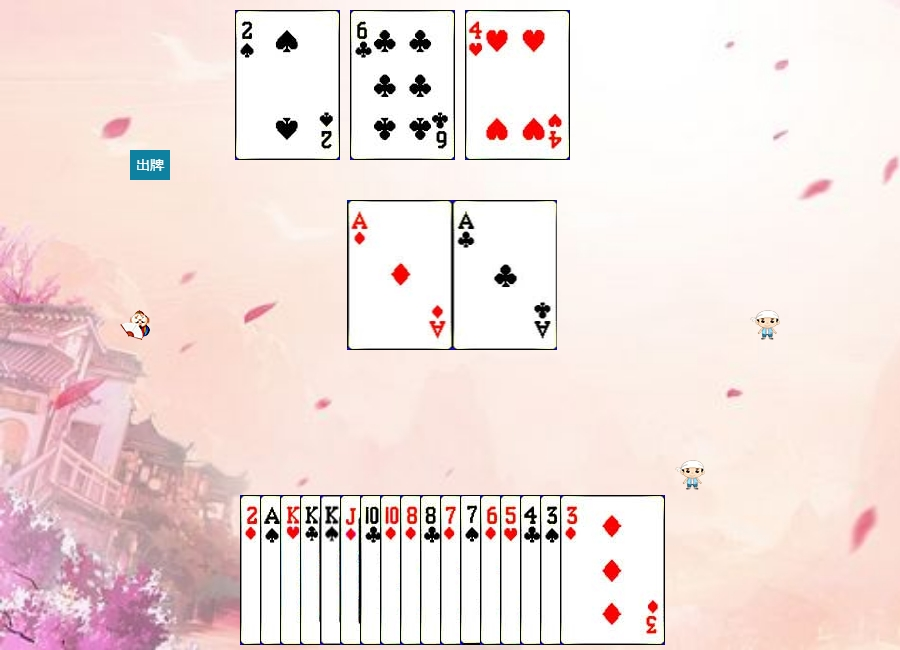10~1: (380, 495, 485, 645)
10~2: (360, 495, 465, 645)
11~1: (340, 495, 445, 645)
13~2: (300, 495, 405, 645)
13~3: (280, 495, 385, 645)
13~4: (320, 495, 425, 645)
14~1: (348, 200, 453, 350)
14~2: (453, 200, 558, 350)
14~4: (260, 495, 365, 645)
15~1: (240, 495, 345, 645)
15~4: (235, 10, 340, 160)
3~1: (560, 495, 665, 645)
3~4: (540, 495, 645, 645)
4~2: (520, 495, 625, 645)
4~3: (465, 10, 570, 160)
5~3: (500, 495, 605, 645)
6~1: (480, 495, 585, 645)
6~2: (350, 10, 455, 160)
7~1: (440, 495, 545, 645)
7~4: (460, 495, 565, 645)
8~1: (400, 495, 505, 645)
8~2: (420, 495, 525, 645)
